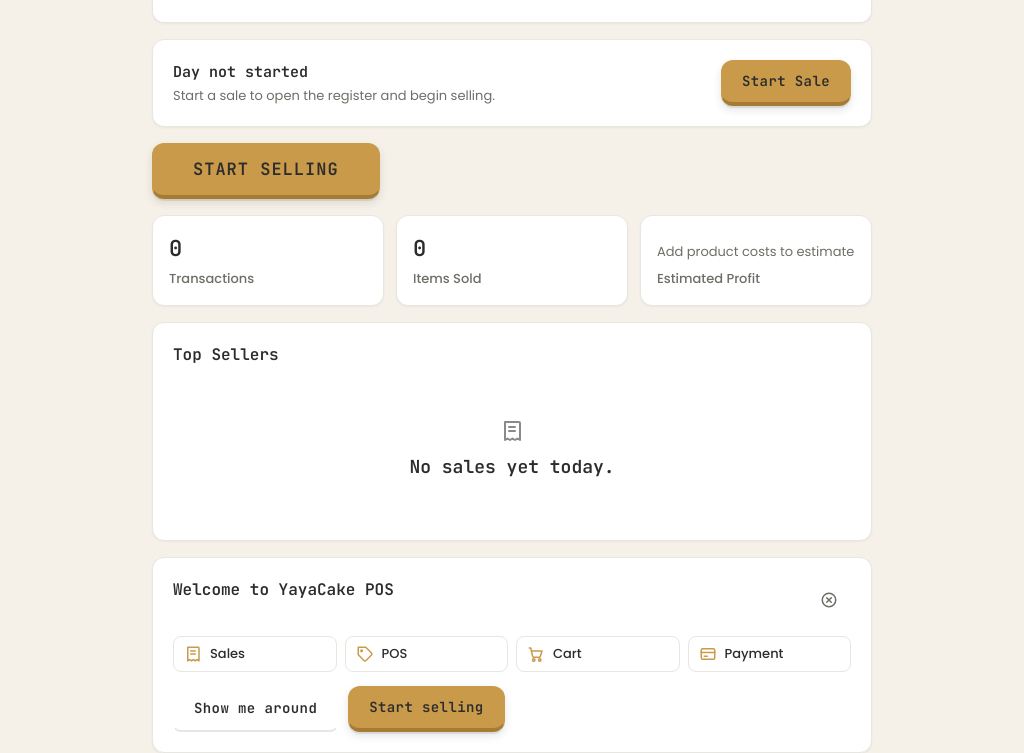
DashboardPage › reveals walkthrough hints on Show me around
(page scrolled)
Click the button "Show me around": (256, 709) [173,686,338,732]
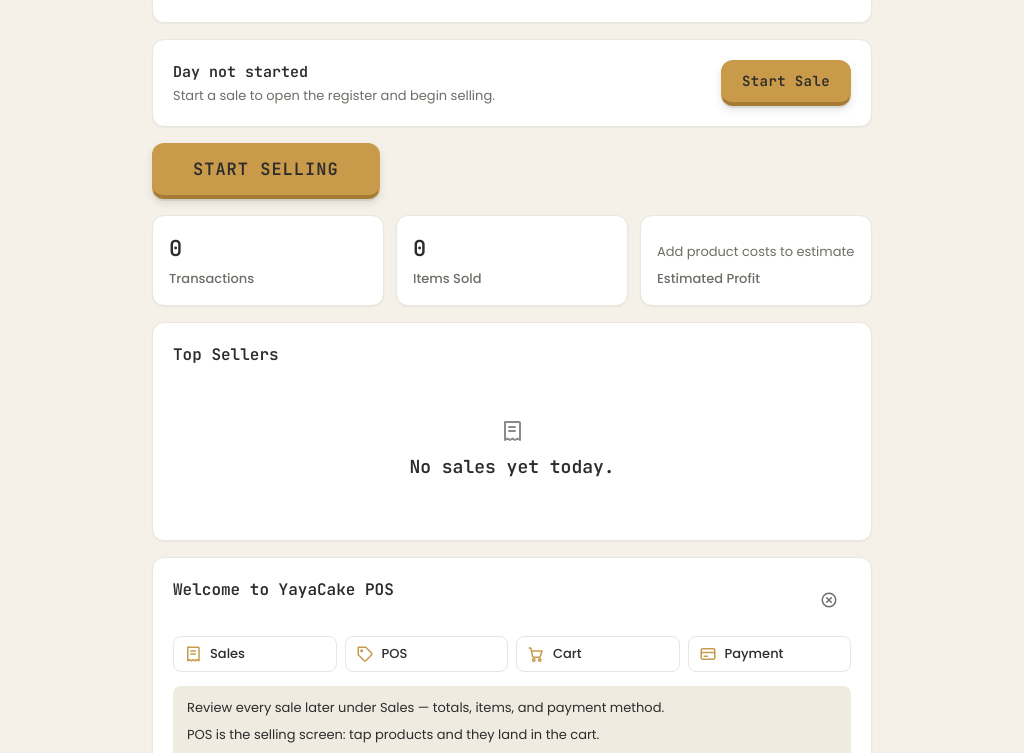
Check: the list item "Review every sale later under Sales" is shown, box [187,698,664,717]
Check: the list item "tap products and they land in the cart" is shown, box [187,725,599,744]
